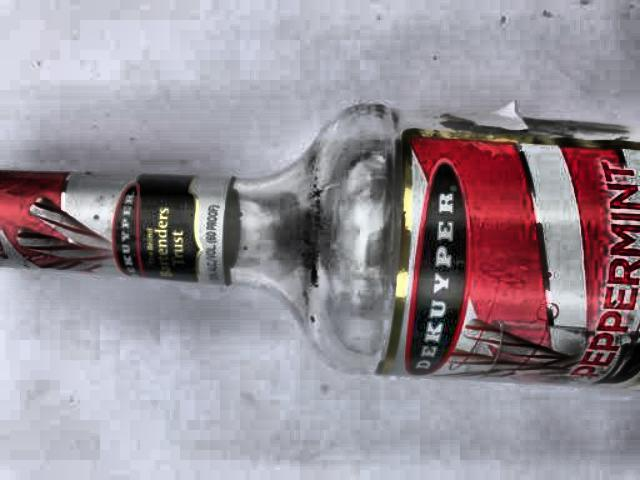Bottles: (0, 75, 640, 407)
